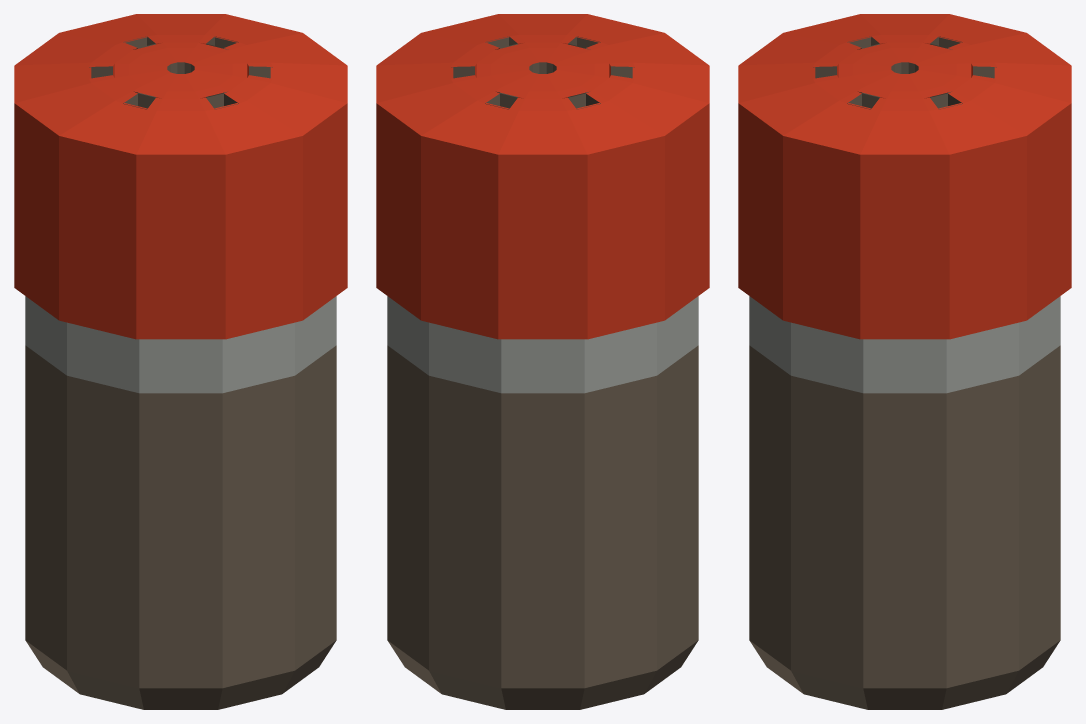
File: SM_Cook_PepperShaker_01.obj
3 views of the same model, side by side, from view 1: azimuth 30°, elevation 25°; view 2: azimuth 150°, elevation 25°; view 3: azimuth 270°, elevation 25° (orthographic).
Parts seen in each view (by area): view 1: SM_Cook_PepperShaker_01; view 2: SM_Cook_PepperShaker_01; view 3: SM_Cook_PepperShaker_01.
Part boxes in pixels (bbox=[...]): SM_Cook_PepperShaker_01: bbox=[14, 14, 347, 709]; SM_Cook_PepperShaker_01: bbox=[376, 14, 709, 709]; SM_Cook_PepperShaker_01: bbox=[738, 14, 1071, 709].
Bounding box in the file's own units: 0.0466 × 0.09 × 0.0466.
1 material, 1 textured.
